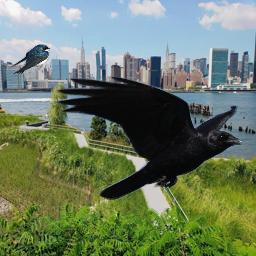Crow: (55, 74, 245, 200)
Swallow: (8, 44, 50, 74)
